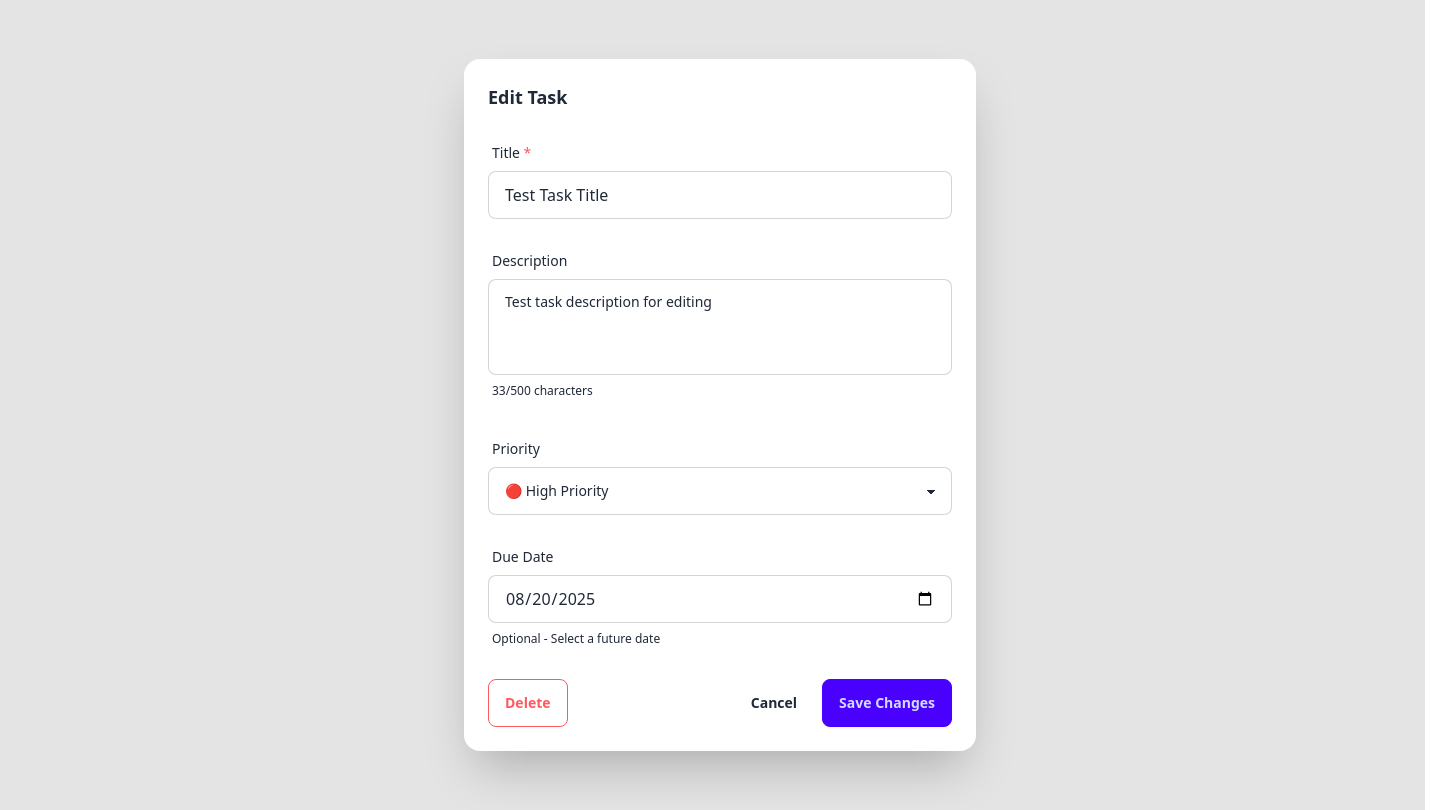
Test: TaskEditModal › shows delete confirmation dialog when delete button clicked
This screenshot has width=1440, height=810.
Click the button with test id "delete-task-btn": {"x": 528, "y": 703} [488,679,568,727]
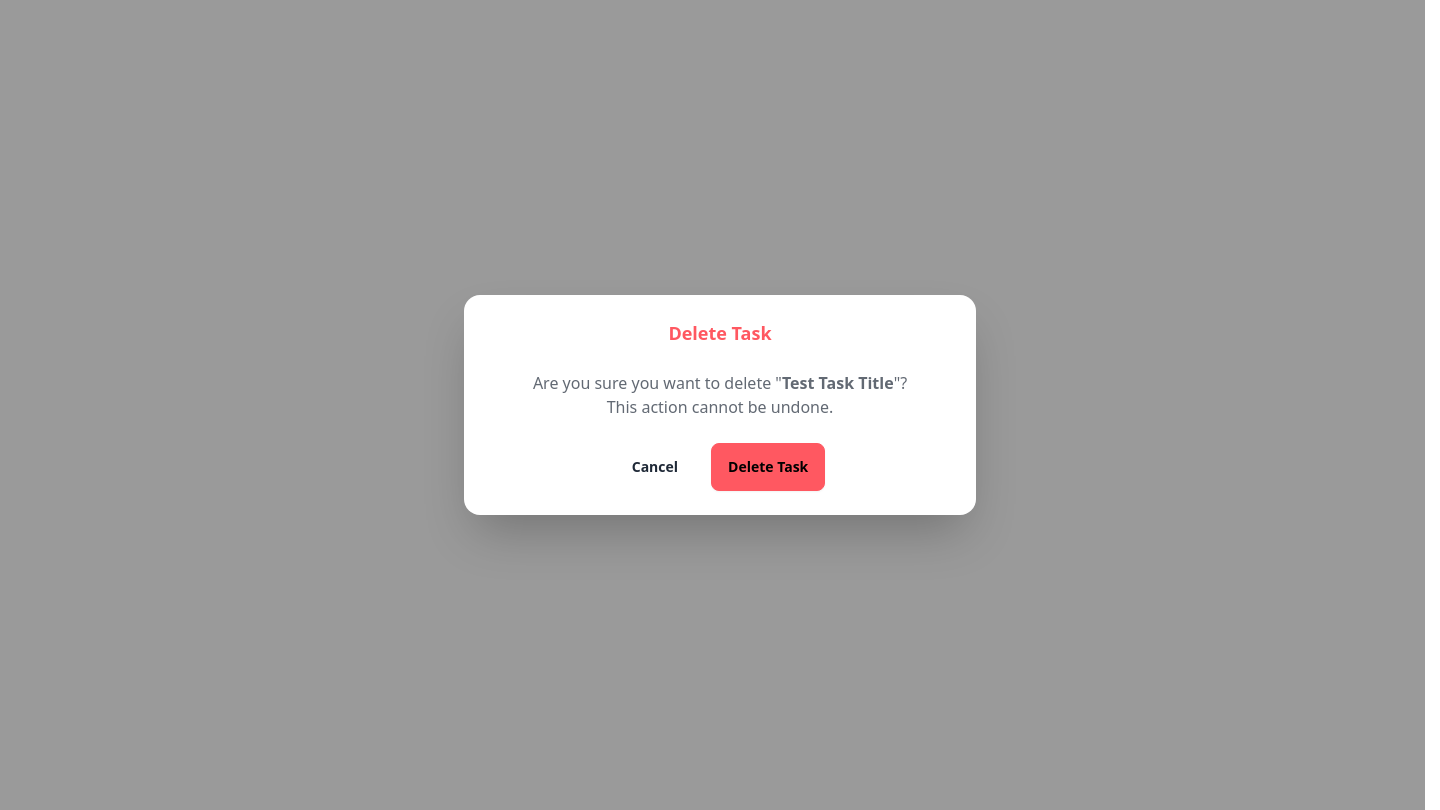
expect the button with test id "cancel-delete-btn" is shown: met, box [615,443,695,491]
expect the button with test id "confirm-delete-btn" is shown: met, box [711,443,825,491]
expect the text "Are you sure you want to delete" is shown: met, box [533,372,782,394]
